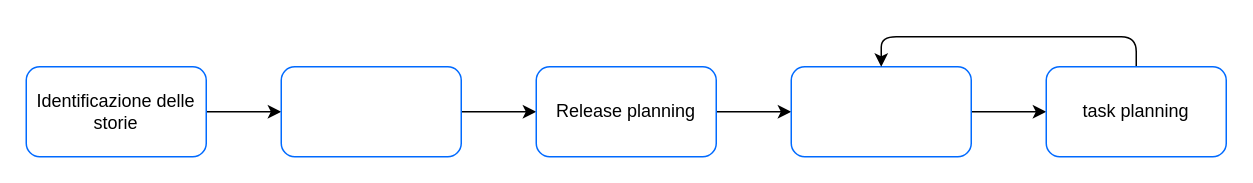
Some shapes in this 1253 by 183 pixel diagram are drawn without their labels. Each missing label, with the centre of its shape:
Iteration planning: the point at 880,111
Stima iniziale: the point at 370,111
